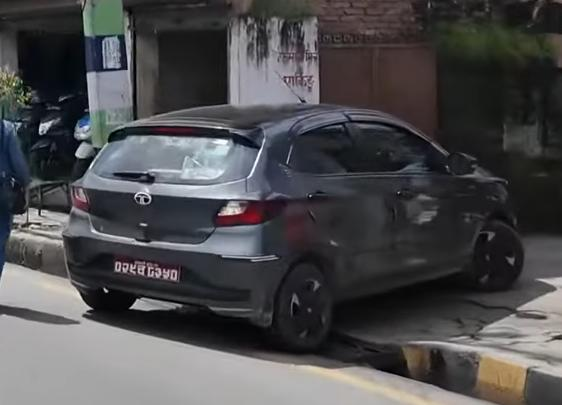car: (67, 102, 524, 343)
